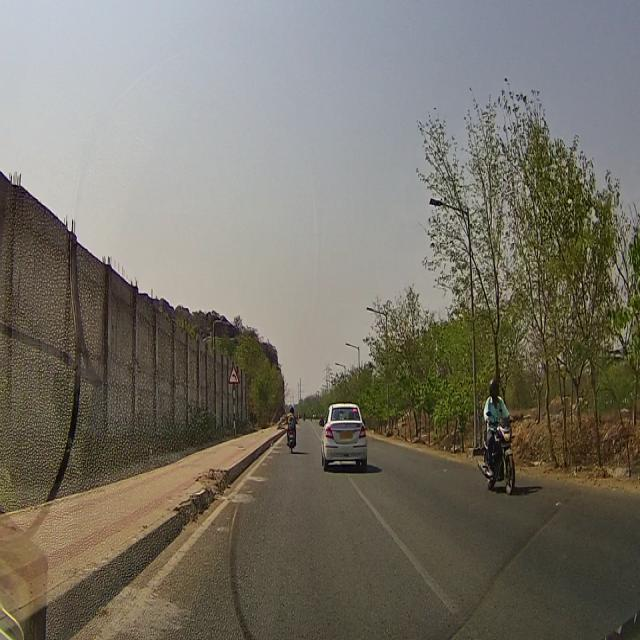left-hand-curve: (230, 366, 239, 383)
